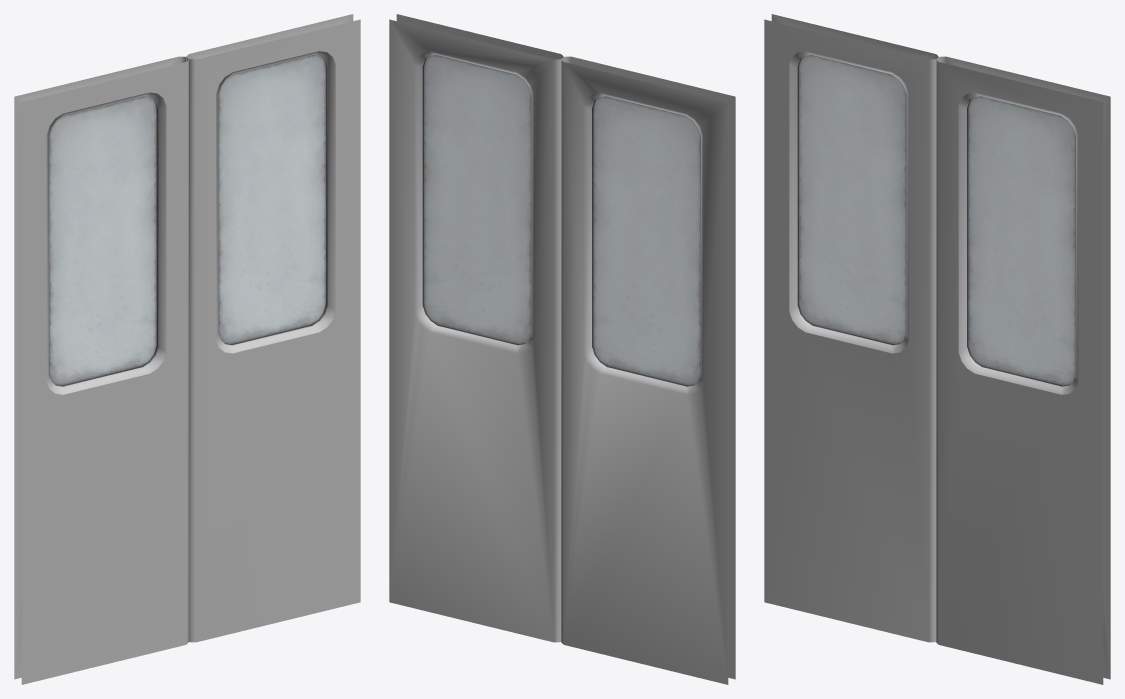
Rendered from slidedoor_subway_exit.dae.
The picture shows the model from 3 angles, left to right: view 1: azimuth 30°, elevation 25°; view 2: azimuth 150°, elevation 25°; view 3: azimuth 330°, elevation 25°; orthographic projection.
Visible parts, largest first — view 1: slidedoor_subway_exit_left, slidedoor_subway_exit_right, glass_right (×2), glass_left (×2); view 2: slidedoor_subway_exit_left, slidedoor_subway_exit_right, glass_right (×2), glass_left (×2); view 3: slidedoor_subway_exit_right, slidedoor_subway_exit_left, glass_left (×2), glass_right (×2).
Boxes of the visible parts, x1,y1,x2,y2 form: slidedoor_subway_exit_left: (14,56,188,684); slidedoor_subway_exit_right: (186,14,360,642); glass_right (×2): (218,55,327,344); glass_left (×2): (49,96,157,386); slidedoor_subway_exit_left: (561,56,735,684); slidedoor_subway_exit_right: (389,14,563,642); glass_right (×2): (422,55,531,344); glass_left (×2): (592,96,700,386); slidedoor_subway_exit_right: (936,56,1110,684); slidedoor_subway_exit_left: (764,14,938,642); glass_left (×2): (797,55,906,344); glass_right (×2): (967,96,1075,386).
Bounding box in the file's own units: 1.5 × 2.47 × 0.057.
